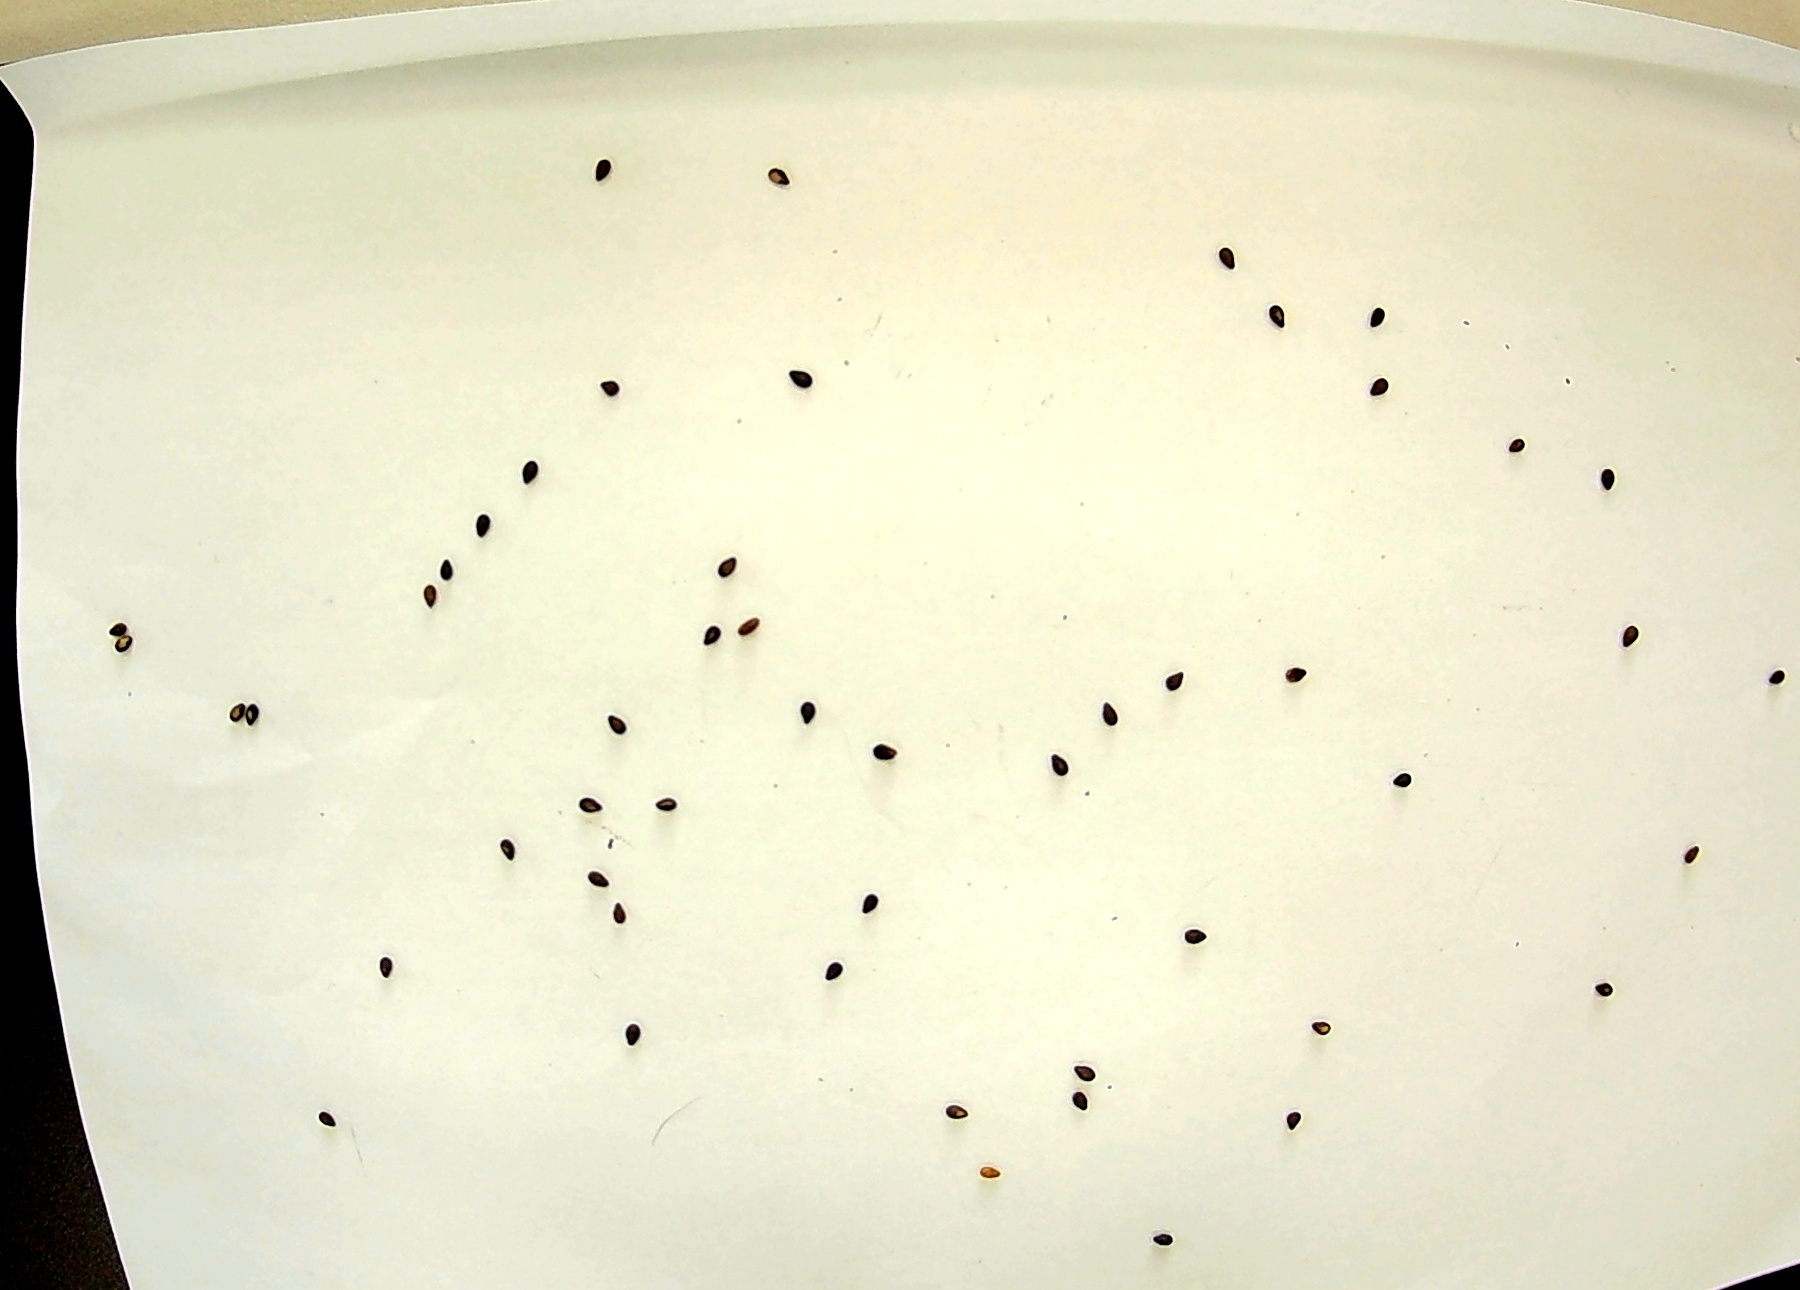sesami: (1280, 653, 1314, 699), (368, 947, 398, 995), (1612, 607, 1642, 653), (1303, 1001, 1333, 1048), (753, 163, 802, 191), (1065, 1089, 1104, 1124), (1585, 457, 1619, 497), (1067, 1053, 1104, 1089), (710, 547, 747, 584), (1581, 979, 1627, 1007), (569, 789, 610, 820), (611, 1016, 647, 1050), (1374, 764, 1422, 789), (822, 942, 846, 991), (1497, 422, 1528, 459), (589, 158, 622, 191), (1047, 747, 1079, 780), (1261, 299, 1292, 334), (780, 369, 825, 392), (735, 616, 774, 642), (871, 734, 903, 766), (1362, 366, 1391, 401), (1755, 667, 1796, 692), (1681, 836, 1718, 864), (594, 706, 631, 734), (645, 792, 681, 820), (472, 508, 504, 539), (600, 900, 631, 933), (109, 634, 145, 660), (693, 618, 723, 651), (500, 838, 525, 874), (1211, 242, 1243, 269), (594, 377, 628, 403), (1097, 695, 1123, 727), (520, 457, 547, 489), (1180, 927, 1218, 949), (310, 1104, 343, 1129), (1151, 1220, 1178, 1251), (858, 888, 885, 916), (1164, 670, 1187, 699), (103, 611, 128, 638), (246, 704, 268, 733), (226, 692, 248, 722), (580, 866, 611, 887), (1372, 303, 1395, 329), (795, 699, 823, 722), (419, 577, 438, 607), (434, 556, 455, 584), (1284, 1110, 1307, 1134)
